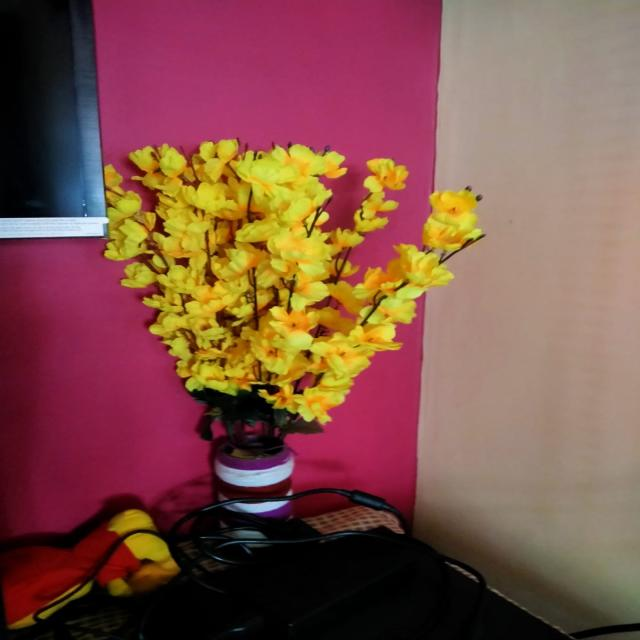Flower Pot: (110, 130, 484, 522)
